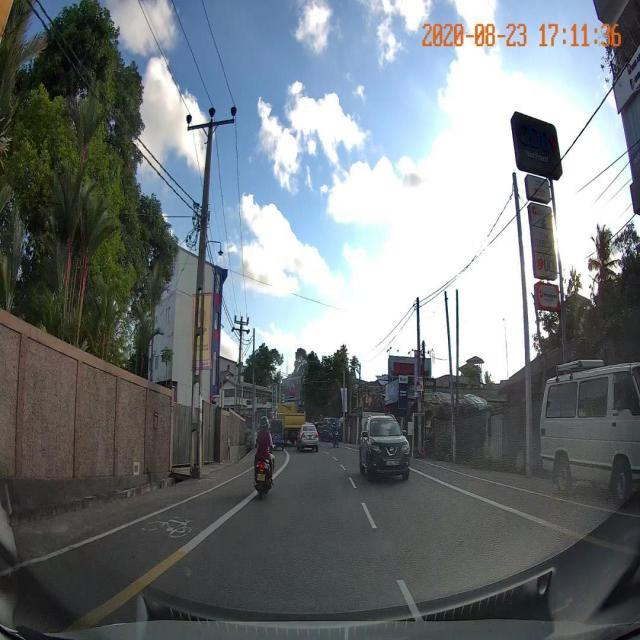Liniya 1: (64, 493, 258, 628), (35, 466, 254, 564), (410, 467, 575, 538), (395, 579, 425, 622), (272, 451, 290, 480), (360, 501, 377, 530), (347, 475, 358, 490), (340, 463, 346, 471), (332, 456, 338, 461)
Velosiped: (137, 515, 196, 541)
